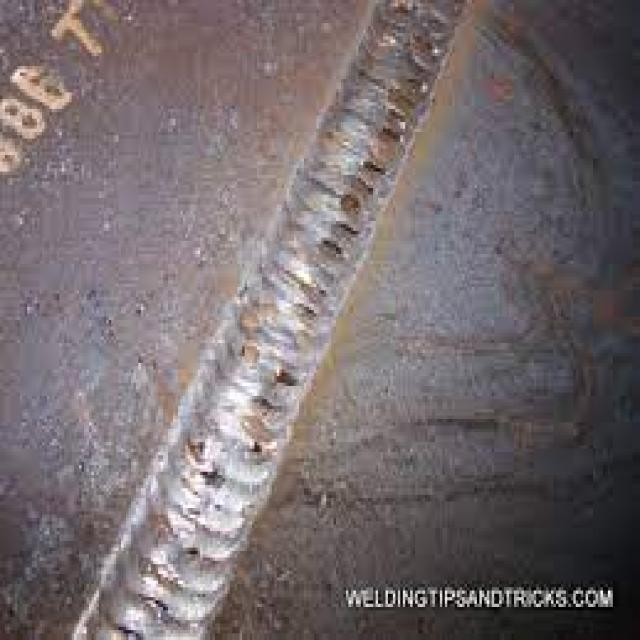Dry: (77, 2, 464, 639)
